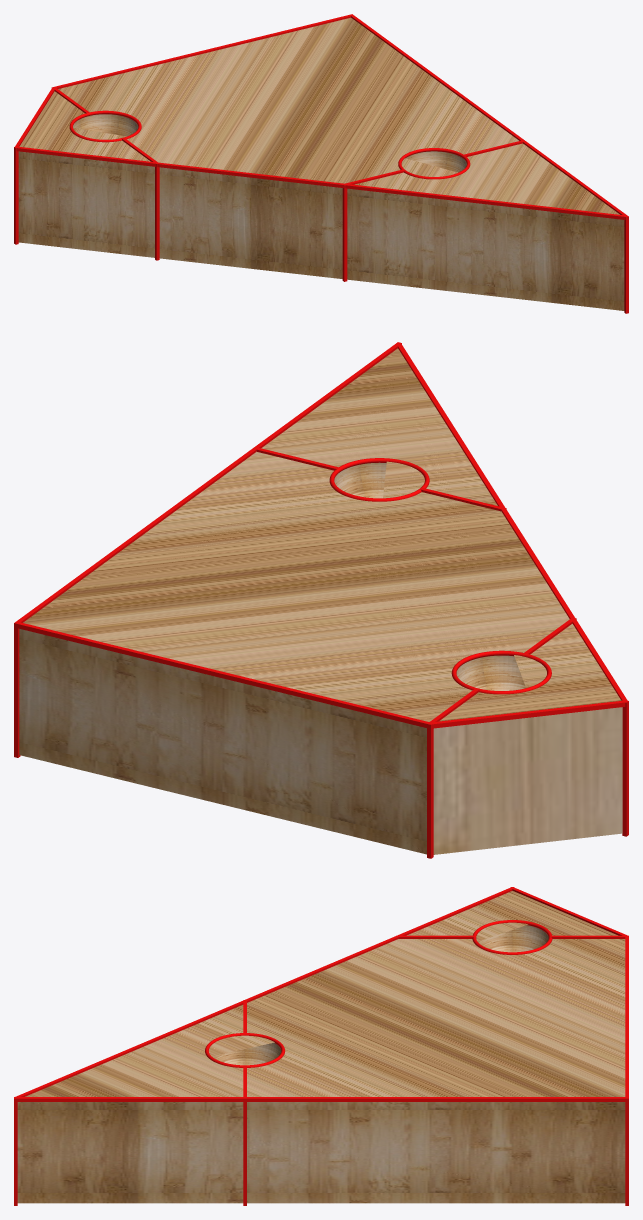
The model's file is basementArchitecture.fbx.
3 renders of one model, top to bottom at view 1: azimuth 30°, elevation 25°; view 2: azimuth 150°, elevation 25°; view 3: azimuth 270°, elevation 25°, orthographic. The views are drawn at different scales.
Visible parts, largest first — view 1: body, frame; view 2: body, frame; view 3: body, frame.
Boxes of the visible parts, x1,y1,x2,y2 form: body: (18,17,624,310); frame: (14,14,628,313); body: (19,348,622,854); frame: (14,342,628,858); body: (17,891,625,1203); frame: (14,887,628,1205).
Bounding box in the file's own units: 1310 × 310 × 1610.
Materials: 2 (1 with a texture image).
